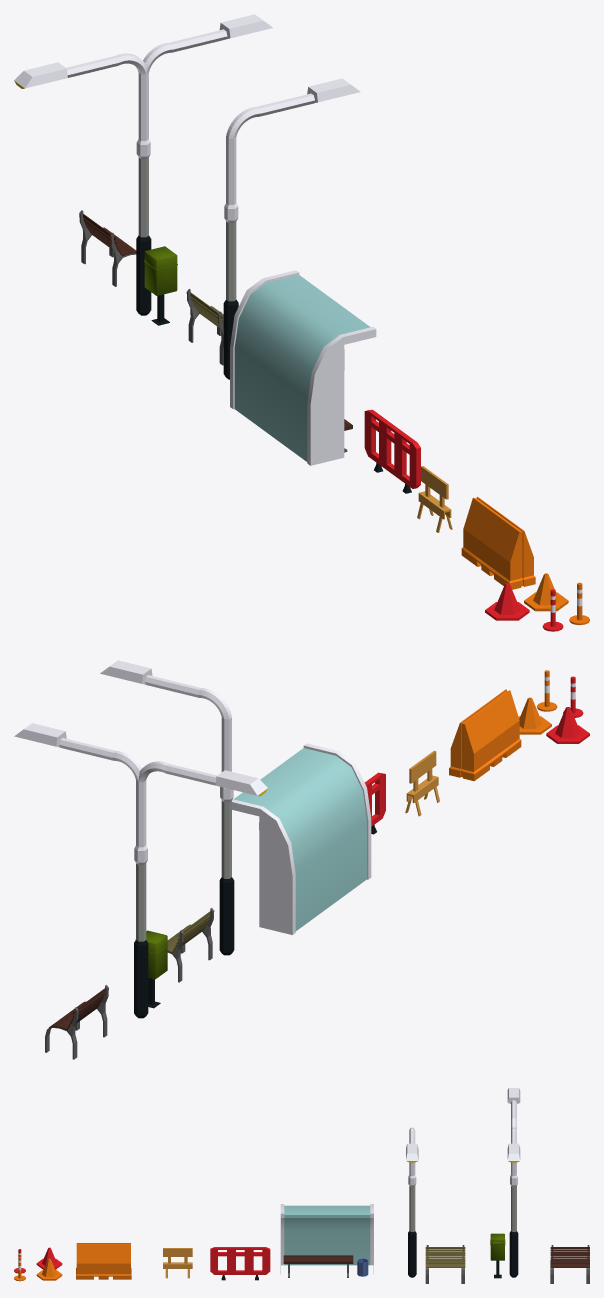
File: sokak_obje.fbx
3 views of the same model, one above another, from view 1: azimuth 30°, elevation 25°; view 2: azimuth 150°, elevation 25°; view 3: azimuth 270°, elevation 25° (orthographic). The views are drawn at different scales.
Visible parts, largest first — view 1: Cube.002, Circle.006, Circle.005, Cube, Cube.001, Cube.006, Cube.003, Cube.004, Cube.014, Circle.002, Circle; view 2: Cube.002, Circle.006, Circle.005, Cube, Cube.003, Cube.004, Cube.014, Cube.006, Circle.002, Cube.001, Circle; view 3: Cube.002, Cube, Circle.006, Cube.001, Circle.005, Cube.014, Cube.003, Cube.005, Cube.004, Cube.006, Circle.
Boxes of the visible parts, x1,y1,x2,y2 form: Cube.002: [230, 270, 376, 465]; Circle.006: [14, 14, 272, 315]; Circle.005: [223, 78, 360, 379]; Cube: [461, 496, 535, 589]; Cube.001: [364, 409, 420, 493]; Cube.006: [144, 246, 177, 325]; Cube.003: [79, 210, 136, 286]; Cube.004: [417, 466, 452, 532]; Cube.014: [186, 289, 223, 365]; Circle.002: [485, 583, 529, 620]; Circle: [524, 573, 568, 611]; Cube.002: [232, 743, 371, 934]; Circle.006: [14, 723, 267, 1018]; Circle.005: [100, 660, 234, 955]; Cube: [449, 689, 521, 781]; Cube.003: [45, 985, 108, 1059]; Cube.004: [405, 750, 439, 816]; Cube.014: [167, 908, 214, 982]; Cube.006: [135, 930, 168, 1008]; Circle.002: [546, 707, 589, 743]; Cube.001: [364, 772, 385, 834]; Circle: [518, 697, 551, 734]; Cube.002: [280, 1204, 373, 1274]; Cube: [76, 1243, 131, 1279]; Circle.006: [507, 1088, 520, 1277]; Cube.001: [210, 1247, 270, 1280]; Circle.005: [406, 1127, 418, 1277]; Cube.014: [425, 1245, 465, 1283]; Cube.003: [550, 1245, 589, 1283]; Cube.005: [283, 1255, 353, 1277]; Cube.004: [163, 1248, 192, 1278]; Cube.006: [490, 1233, 505, 1278]; Circle: [36, 1258, 62, 1280].
Bounding box in the file's own units: 432 × 445 × 1493.
Materials: 1 (1 with a texture image).
